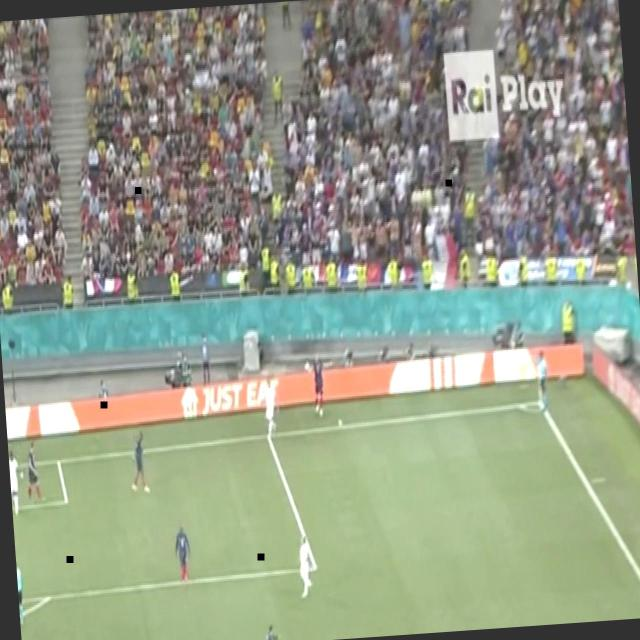player-white: (303, 344, 339, 424), (256, 371, 284, 449), (125, 427, 154, 496), (293, 529, 317, 603), (170, 520, 194, 592), (21, 440, 47, 506), (8, 445, 28, 521), (533, 343, 553, 417), (16, 556, 27, 634), (255, 618, 283, 640)
